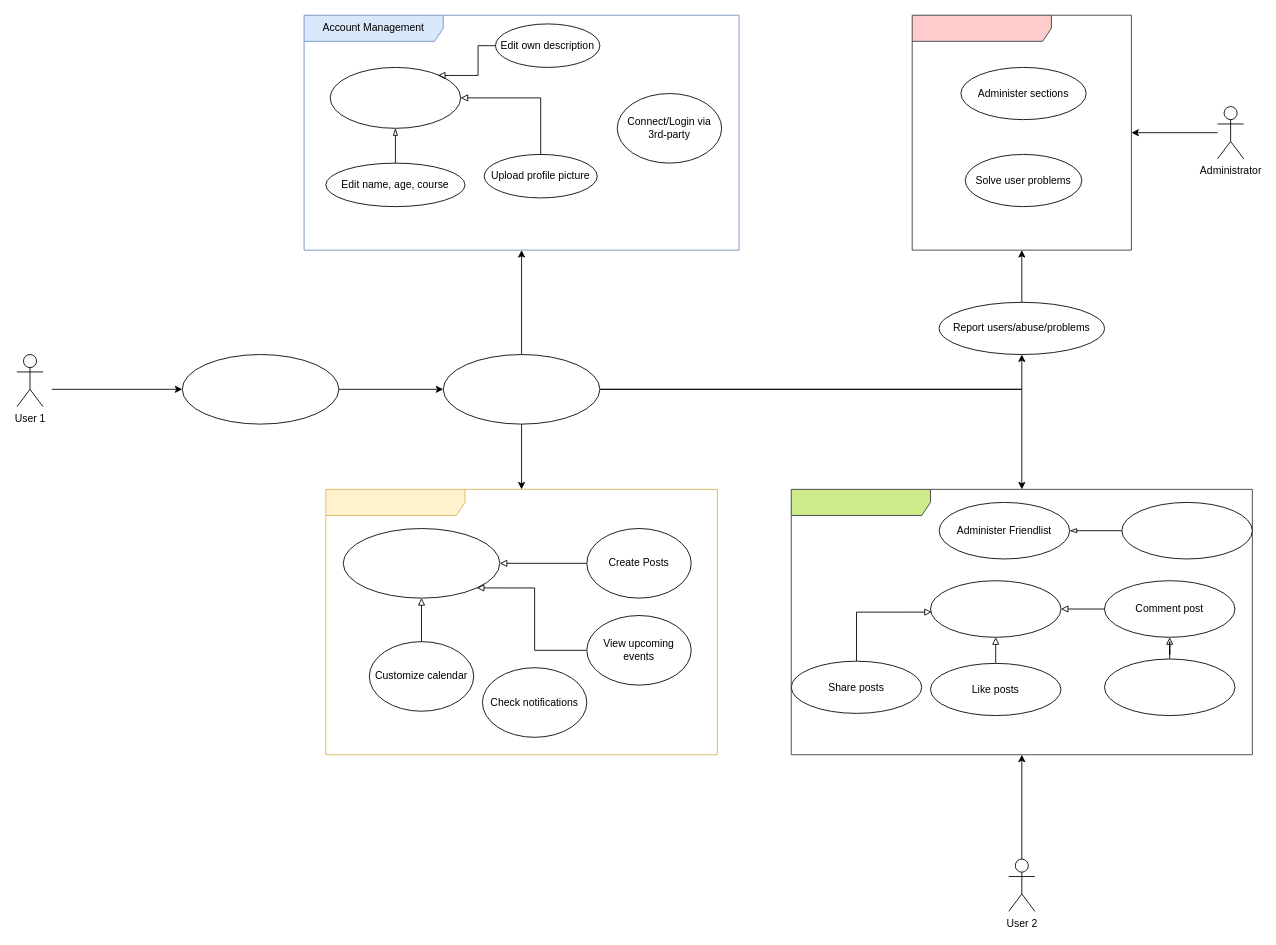
This 1276x945 diagram has some shape labels left out. Each missing label, with the box of its shape:
Administration: (911, 14, 1131, 250)
Browse Sections or personalized Feed: (342, 528, 500, 598)
Browsing Homepage and Sections: (181, 354, 339, 424)
Comment comments: (1104, 658, 1235, 716)
Creating Account: (442, 354, 600, 424)
Interact with posts: (930, 580, 1061, 637)
Personalize Profile: (329, 67, 461, 128)
Send/Receive Friendrequests: (1121, 502, 1252, 559)
User Interaction: (790, 489, 1252, 755)
Website activities: (325, 489, 717, 755)
